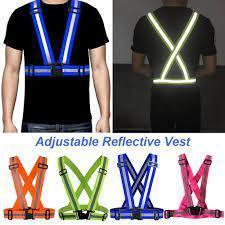Vest: (141, 6, 205, 87)
